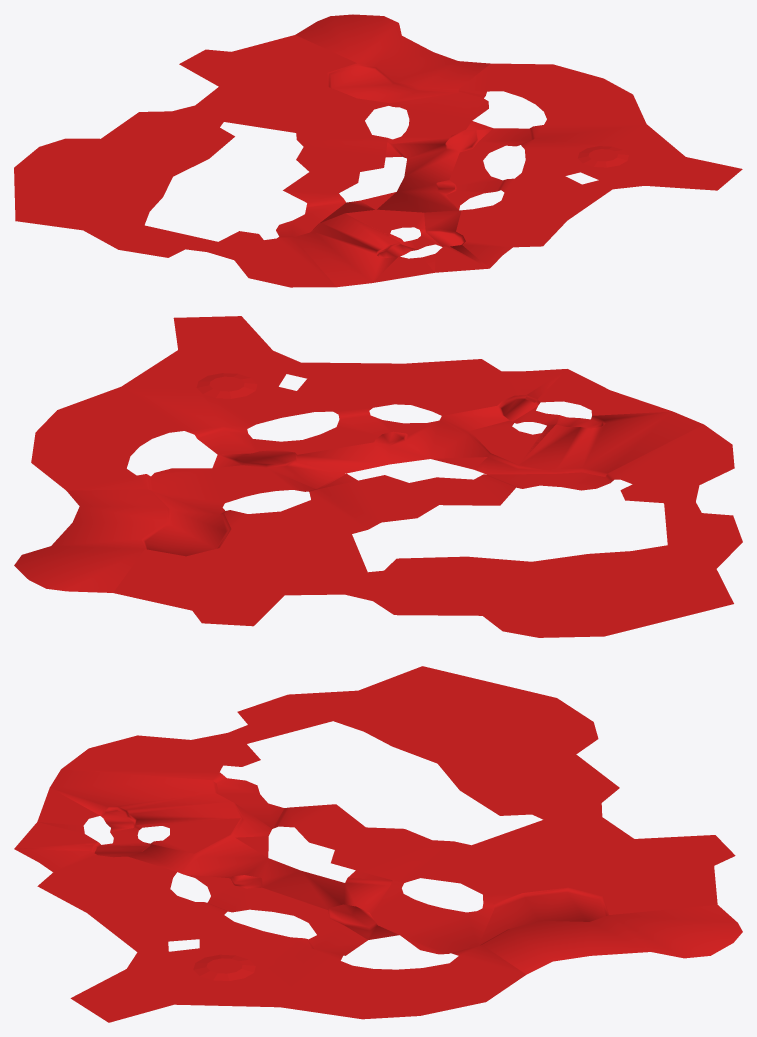
The model's file is slsd_collider.FBX.
3 renders of one model, top to bottom at view 1: azimuth 30°, elevation 25°; view 2: azimuth 150°, elevation 25°; view 3: azimuth 270°, elevation 25°, orthographic. The views are drawn at different scales.
Parts seen in each view (by area): view 1: slsd_collider; view 2: slsd_collider; view 3: slsd_collider.
Boxes of the visible parts, box(x1,y1,x2,y2) form: slsd_collider: box(14, 14, 742, 287); slsd_collider: box(14, 316, 742, 637); slsd_collider: box(14, 666, 742, 1022).
Bounding box in the file's own units: 10026 × 8657 × 58.13.
